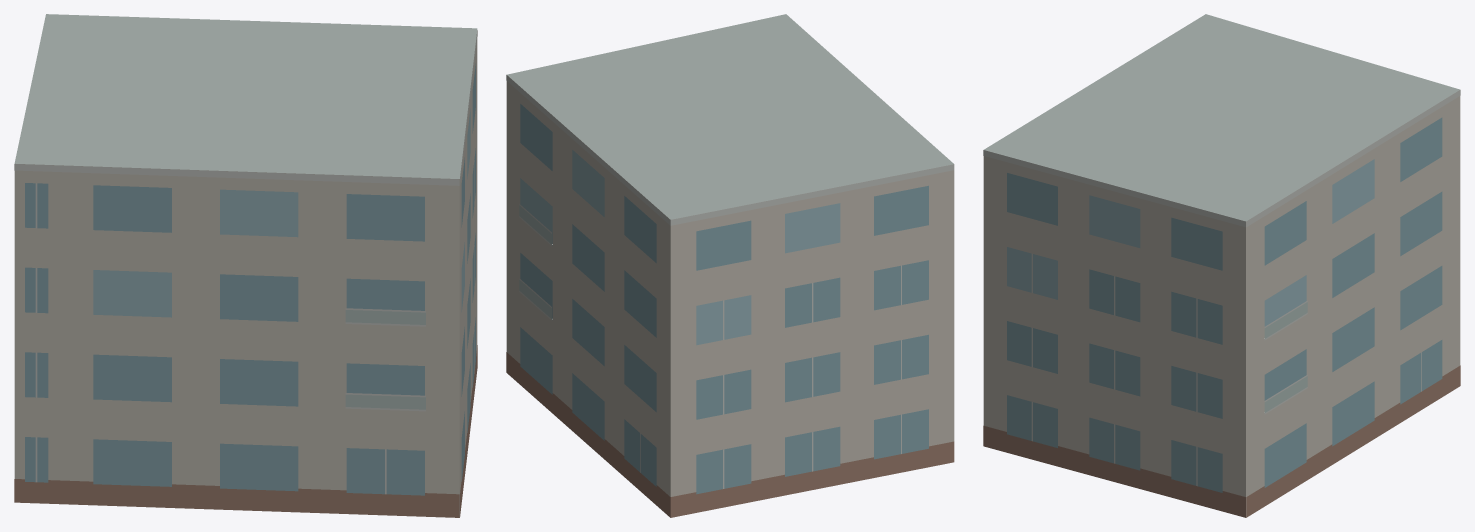
File: survey-upis-32614275.glb
3 views of the same model, side by side, from view 1: azimuth 30°, elevation 25°; view 2: azimuth 150°, elevation 25°; view 3: azimuth 270°, elevation 25° (orthographic). The views are drawn at different scales.
Visible parts, largest first — view 1: survey-upis-32614275.tmp; view 2: survey-upis-32614275.tmp; view 3: survey-upis-32614275.tmp.
Boxes of the visible parts, <box> form: survey-upis-32614275.tmp: <box>14,14,477,517</box>; survey-upis-32614275.tmp: <box>506,14,954,517</box>; survey-upis-32614275.tmp: <box>983,14,1460,517</box>.
Bounding box in the file's own units: 18.33 × 12.2 × 17.8.
